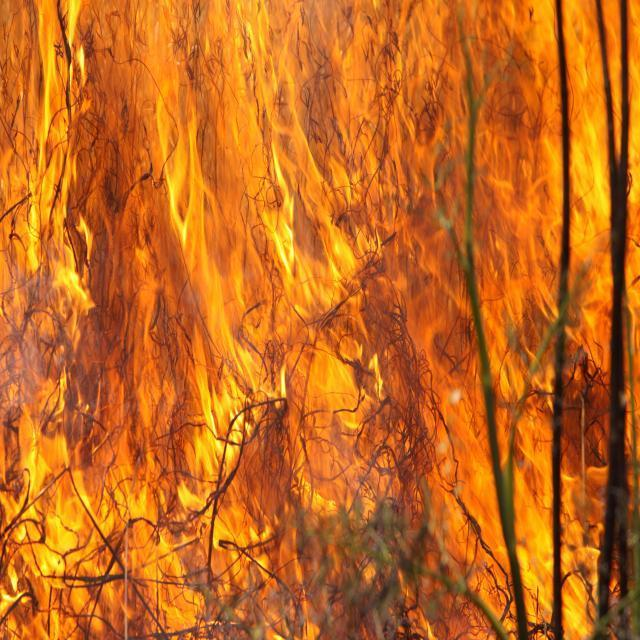Fire: (95, 0, 409, 635)
